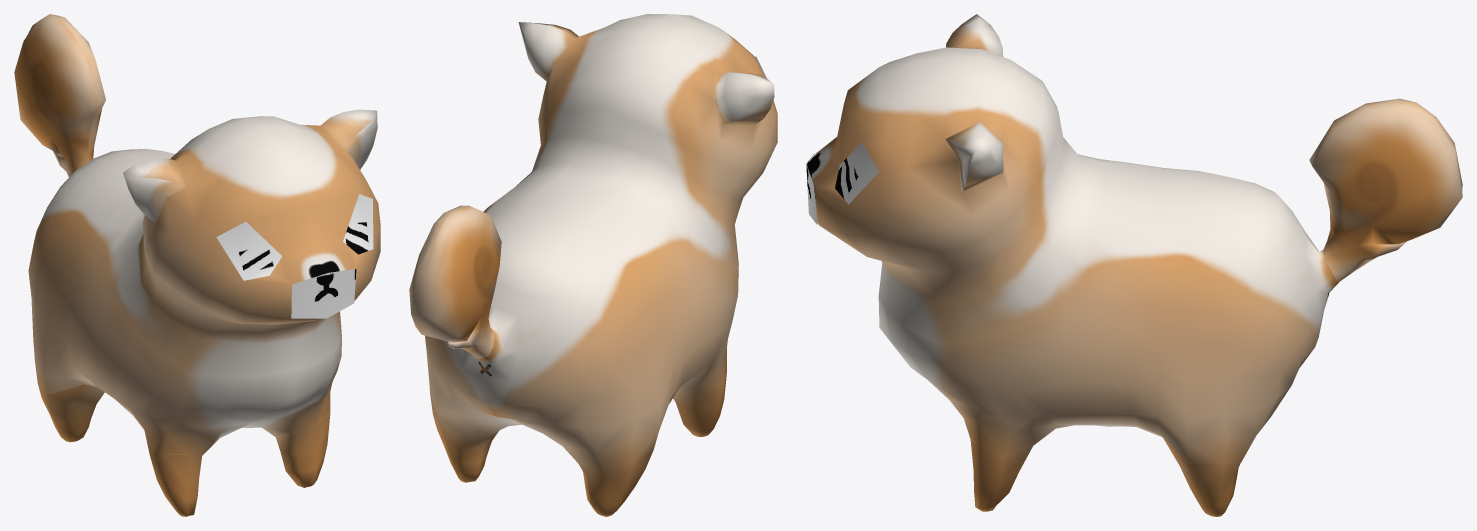
File: Doggo_2.FBX
The picture shows the model from 3 angles, left to right: view 1: azimuth 30°, elevation 25°; view 2: azimuth 150°, elevation 25°; view 3: azimuth 270°, elevation 25°; orthographic projection. The views are drawn at different scales.
Parts seen in each view (by area): view 1: Doggo_2, Doggo_2_Face; view 2: Doggo_2; view 3: Doggo_2, Doggo_2_Face.
Part boxes in pixels (x1,y1,x2,y2): Doggo_2: (14,14,380,516); Doggo_2_Face: (216,194,373,318); Doggo_2: (409,14,777,516); Doggo_2: (808,14,1462,516); Doggo_2_Face: (806,142,879,224).
Size of the model in its own units: 0.4293 by 0.6195 by 0.8768.
